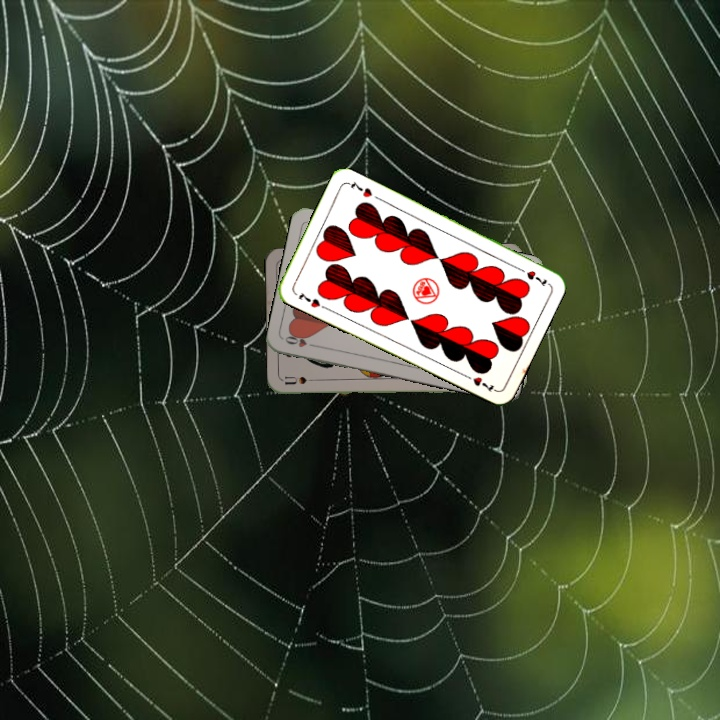H7: (513, 263, 551, 289), (294, 288, 323, 310)
HO: (281, 331, 321, 350)
SU: (282, 372, 322, 387)
